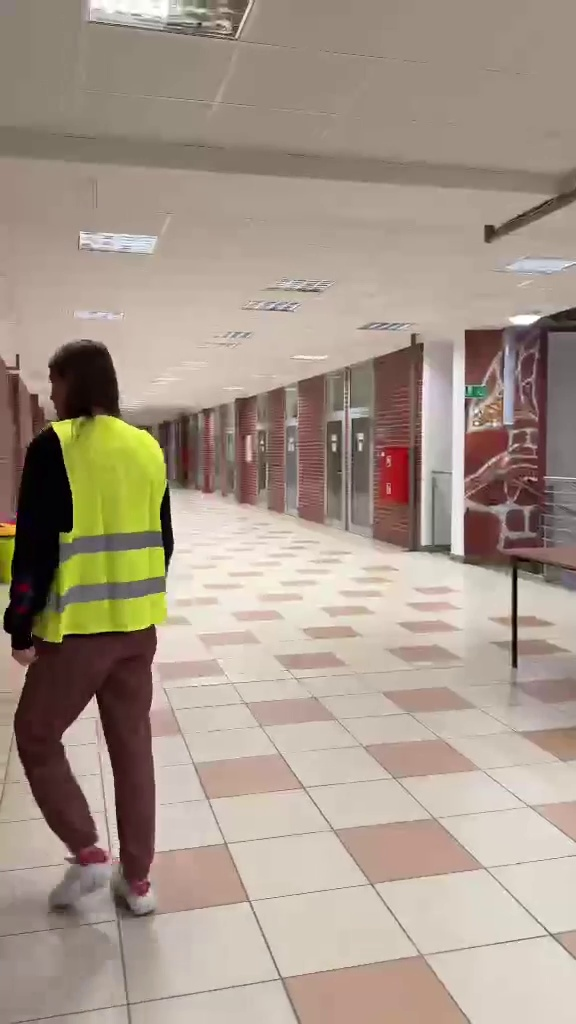vest: (10, 331, 182, 917)
